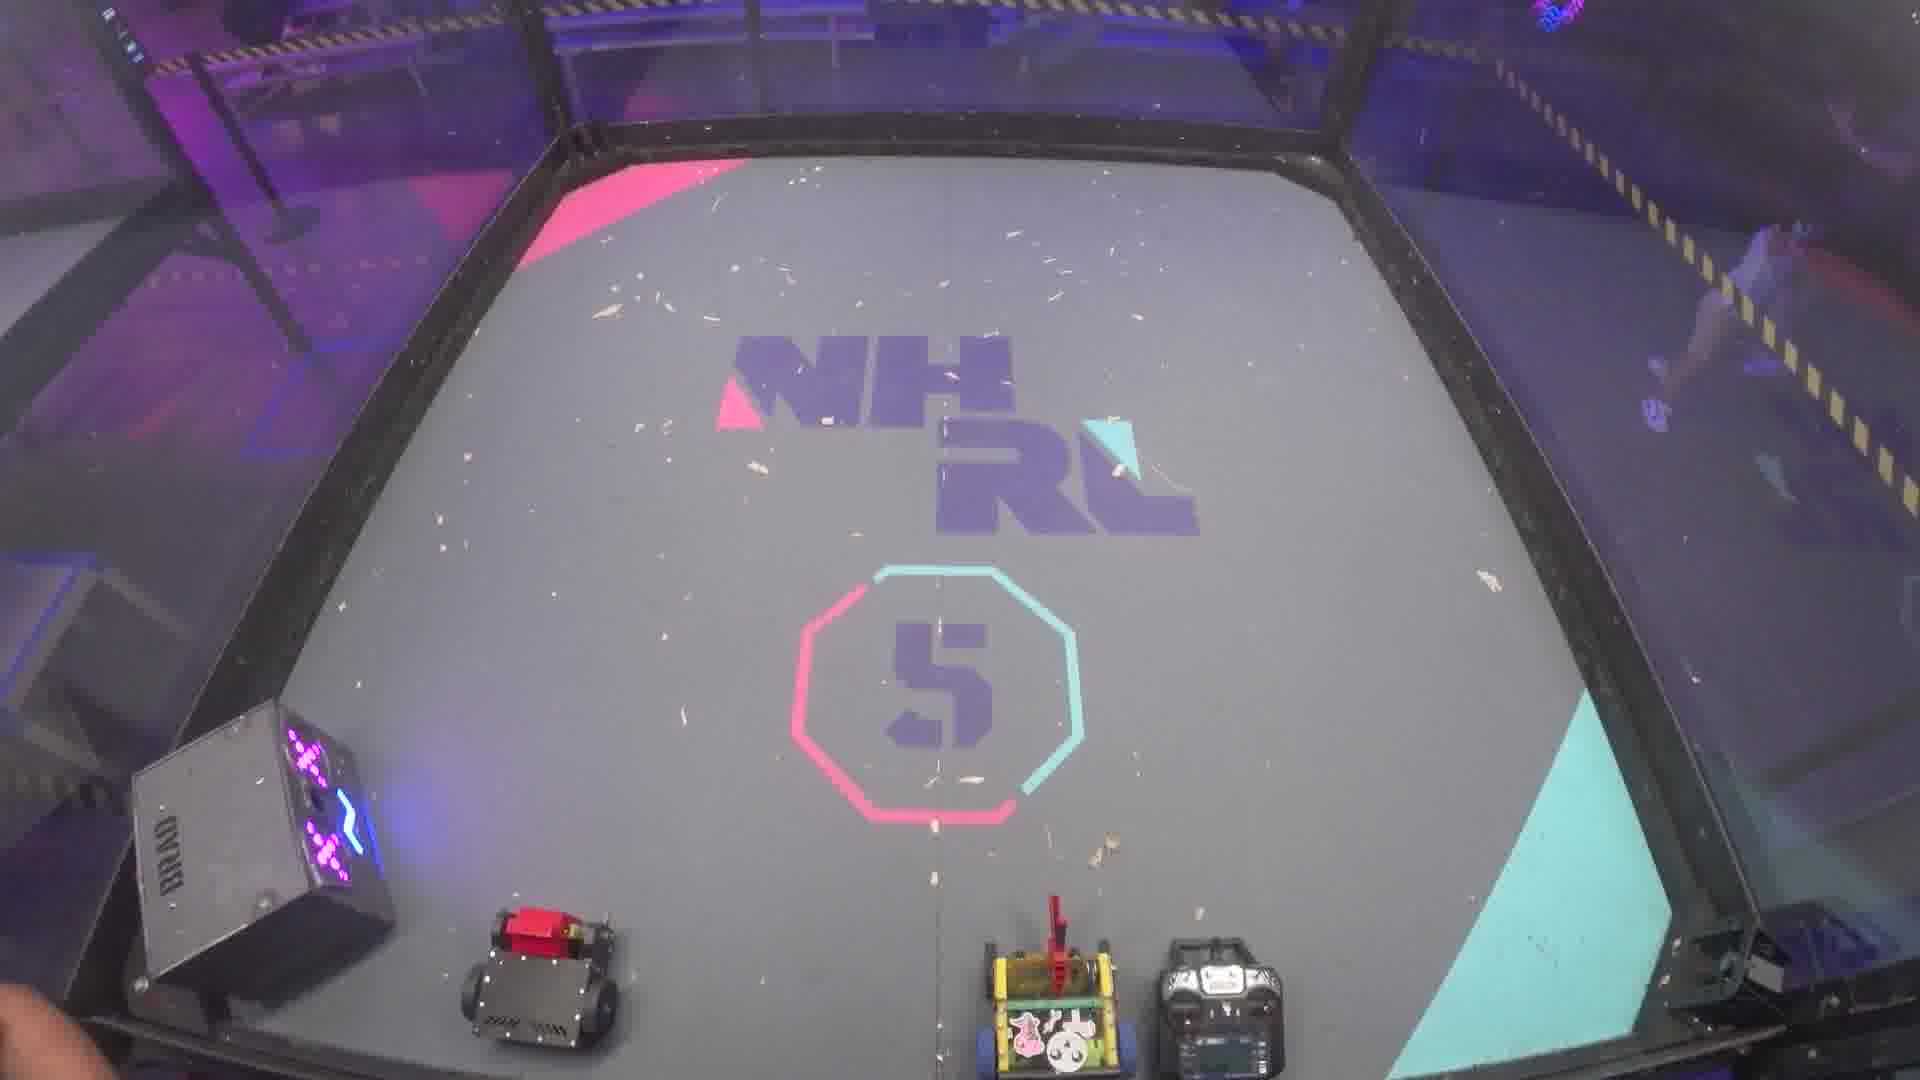combatbot: (977, 902, 1129, 1073), (460, 899, 626, 1047)
housebot: (127, 699, 397, 1007)
